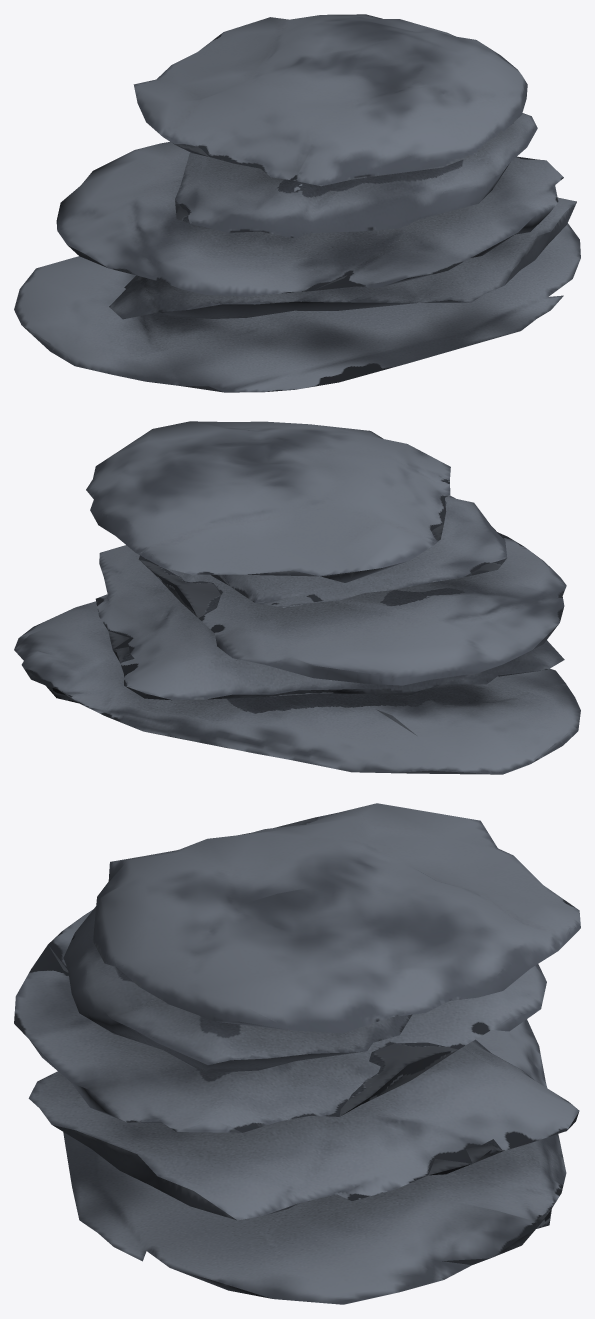
File: piedra_pizarra.fbx
3 renders of one model, top to bottom at view 1: azimuth 30°, elevation 25°; view 2: azimuth 150°, elevation 25°; view 3: azimuth 270°, elevation 25°, orthographic. The views are drawn at different scales.
Parts seen in each view (by area): view 1: piedra_pizarra; view 2: piedra_pizarra; view 3: piedra_pizarra.
Boxes of the visible parts, x1,y1,x2,y2 form: piedra_pizarra: (14,14,580,392); piedra_pizarra: (14,421,580,774); piedra_pizarra: (14,803,580,1304).
Size of the model in its own units: 2.76 by 1.11 by 1.98.
1 material, 1 textured.
